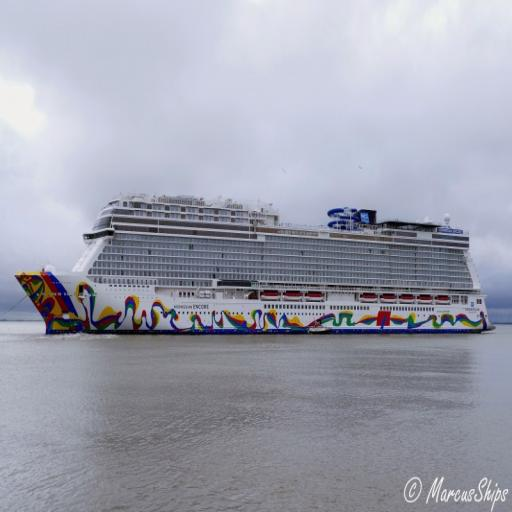cruises: (10, 184, 499, 350)
